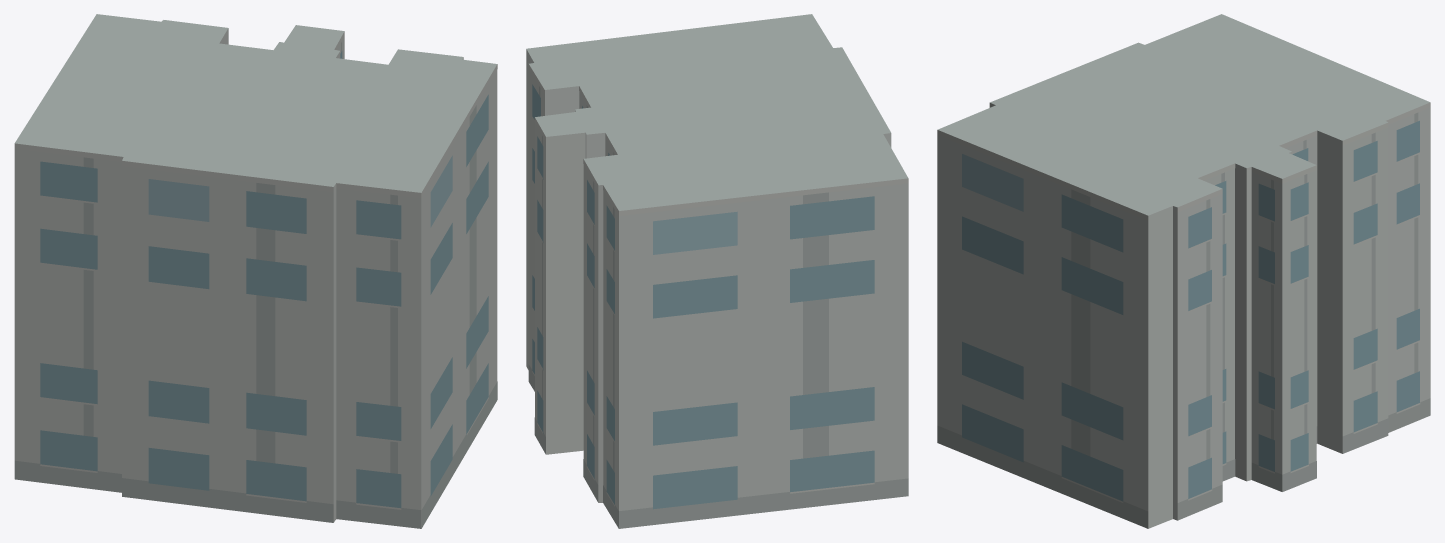
File: survey-upis-32810003.glb
3 views of the same model, side by side, from view 1: azimuth 30°, elevation 25°; view 2: azimuth 150°, elevation 25°; view 3: azimuth 270°, elevation 25° (orthographic). The views are drawn at different scales.
Visible parts, largest first — view 1: survey-upis-32810003.tmp; view 2: survey-upis-32810003.tmp; view 3: survey-upis-32810003.tmp.
Part boxes in pixels (<box>): survey-upis-32810003.tmp: <box>14,14,497,528</box>; survey-upis-32810003.tmp: <box>526,14,908,528</box>; survey-upis-32810003.tmp: <box>937,14,1430,528</box>.
Bounding box in the file's own units: 21.07 × 15.25 × 21.77.
